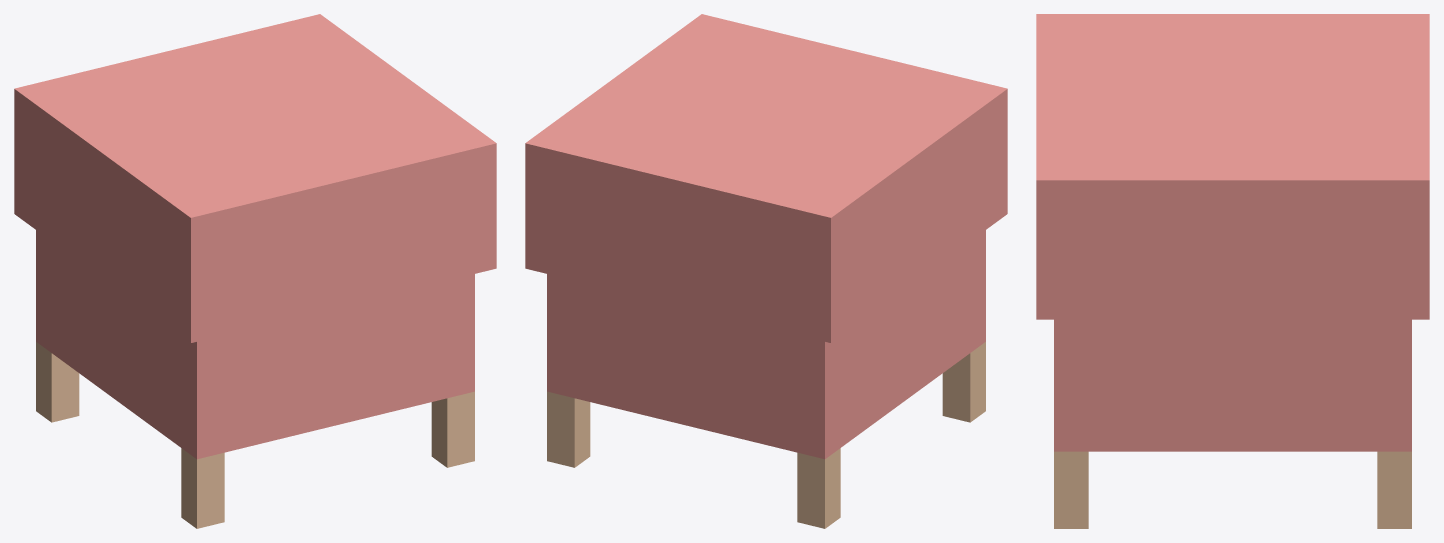
Rendered from kn-lounge-sofa-ottoman.glb.
3 renders of one model, left to right at view 1: azimuth 30°, elevation 25°; view 2: azimuth 150°, elevation 25°; view 3: azimuth 270°, elevation 25°, orthographic. The views are drawn at different scales.
Parts seen in each view (by area): view 1: loungeSofaOttoman(Clone); view 2: loungeSofaOttoman(Clone); view 3: loungeSofaOttoman(Clone).
Boxes of the visible parts, <box> form: loungeSofaOttoman(Clone): <box>14,14,496,528</box>; loungeSofaOttoman(Clone): <box>525,14,1007,528</box>; loungeSofaOttoman(Clone): <box>1036,14,1429,528</box>.
Bounding box in the file's own units: 1 × 1 × 1.
